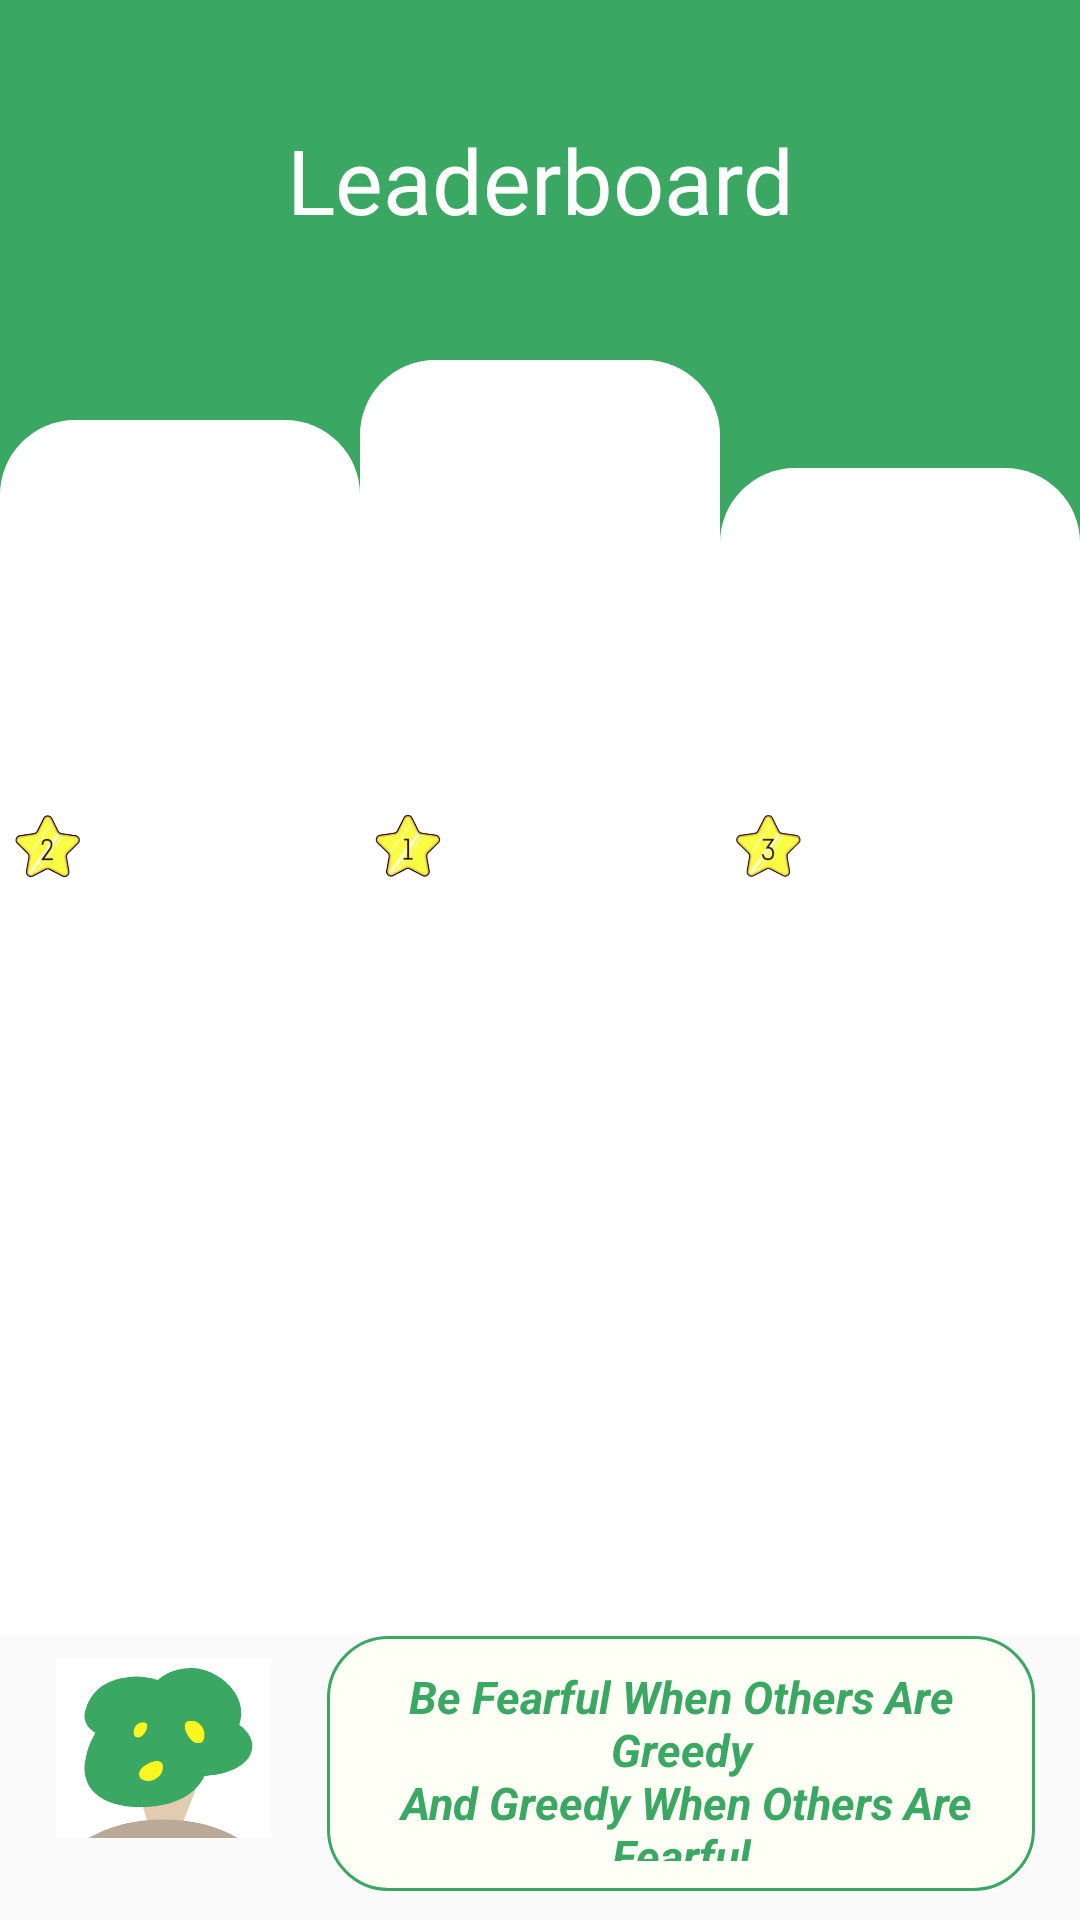

Named icons in this screenshot (1080x1920) and their centers, [x,y]:
moneytree: [168,1753]
star: [47,846], [408,846], [768,846]
